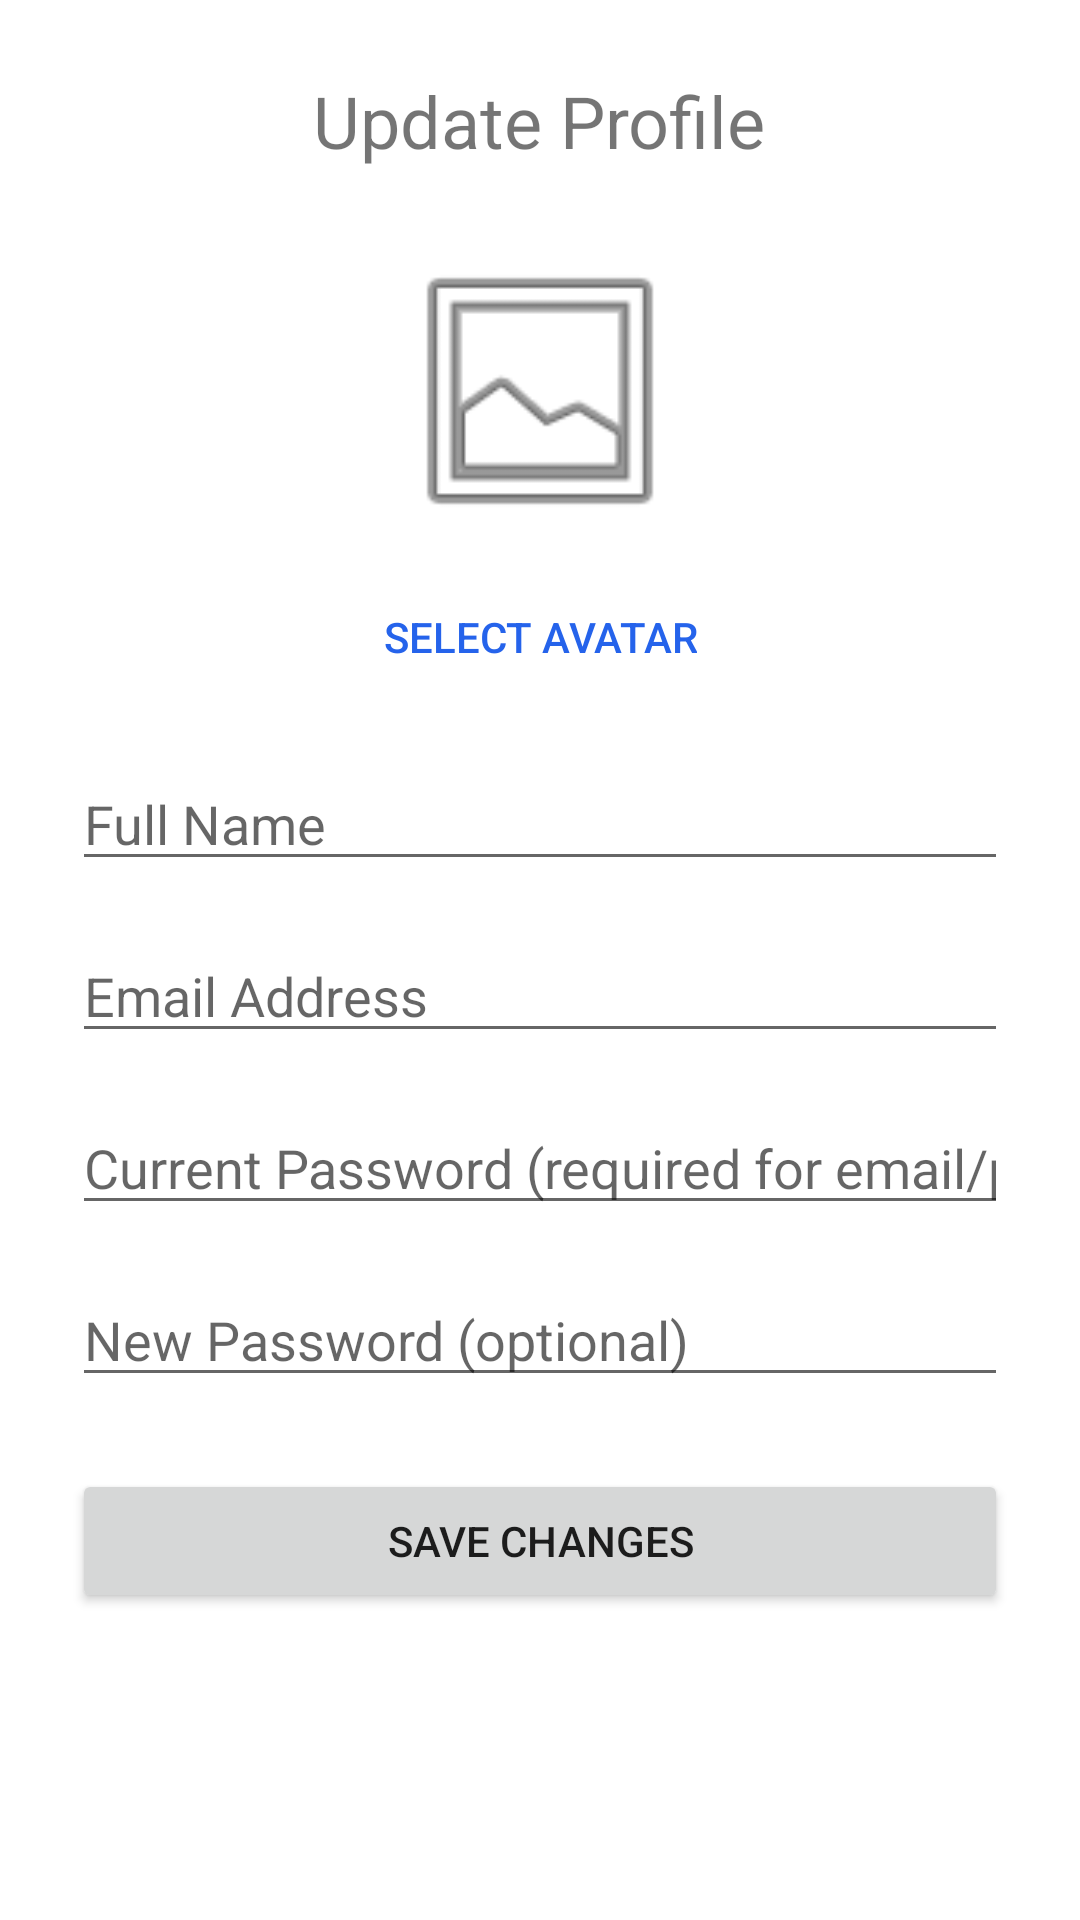

Named icons in this screenshot (1080 × 1920) and their bounding boxes, (x1, y1, x2, y2):
gallery: (427, 278, 653, 504)
